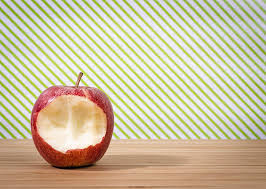damaged_apple: (31, 82, 117, 169)
